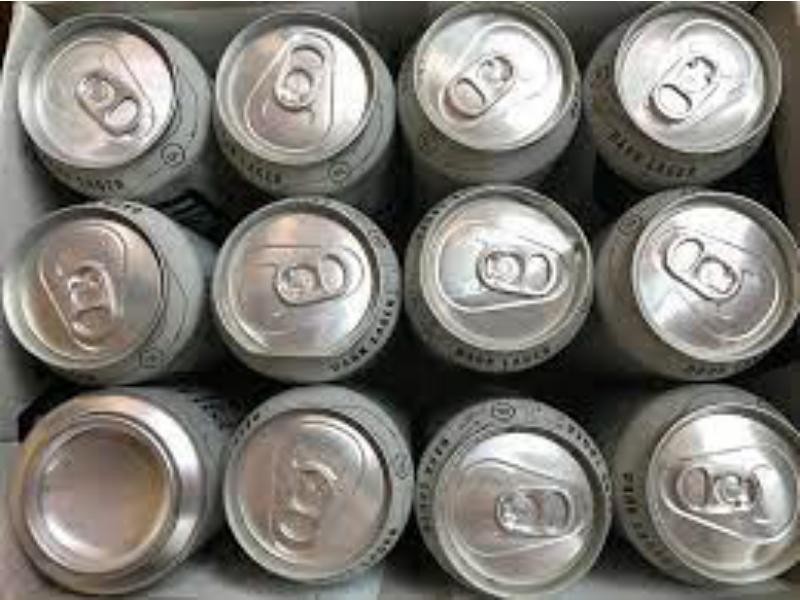can: (418, 384, 620, 600), (12, 391, 210, 595), (220, 389, 414, 595), (622, 172, 800, 384), (413, 181, 595, 379), (213, 199, 405, 375), (635, 397, 800, 600), (214, 9, 398, 191), (15, 12, 208, 185), (0, 201, 194, 370), (599, 2, 791, 161), (407, 4, 580, 178)
